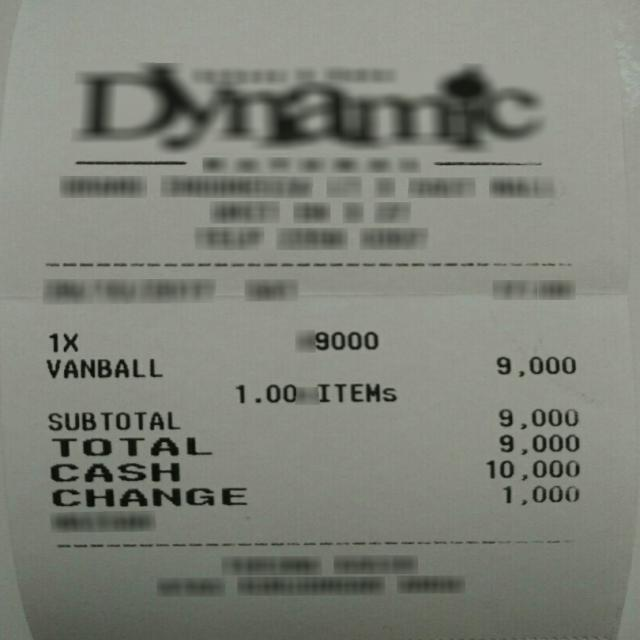text: (52, 486, 245, 506), (51, 436, 210, 456), (47, 410, 179, 430), (50, 462, 179, 482), (486, 457, 578, 481), (45, 358, 159, 376), (499, 432, 579, 454), (498, 407, 577, 428), (494, 356, 574, 376), (317, 382, 396, 402), (503, 484, 579, 504), (303, 331, 377, 349), (235, 382, 297, 402), (46, 332, 76, 352)
